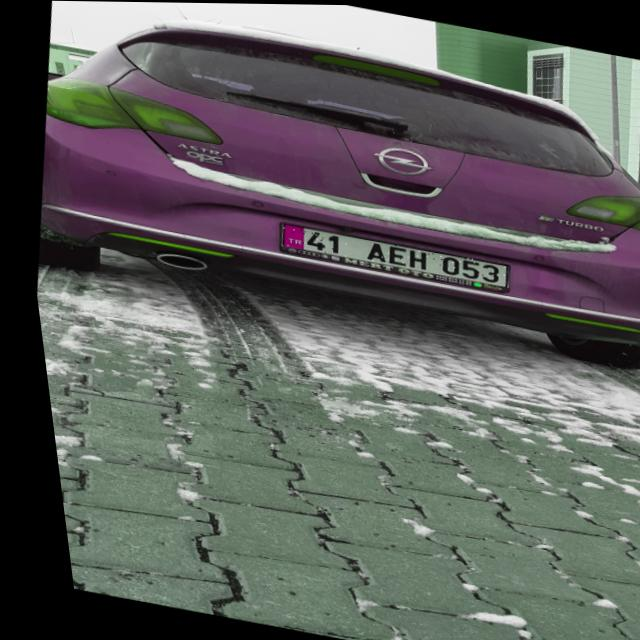license_plate: (272, 222, 504, 286)
